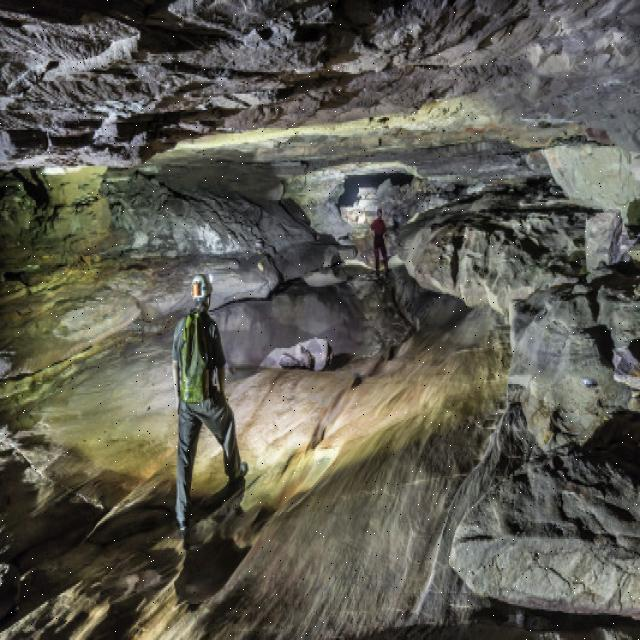Metamorphic: (286, 330, 629, 640), (1, 11, 636, 133), (96, 173, 317, 258)
